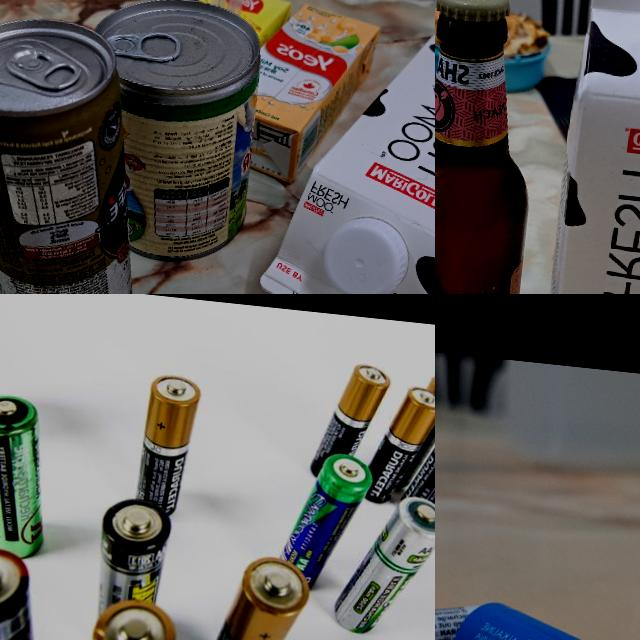aba de lata: (0, 46, 81, 98), (98, 20, 180, 67)
bateria: (331, 490, 435, 639), (277, 450, 373, 598), (90, 493, 172, 628), (309, 358, 393, 484), (198, 549, 313, 640), (359, 381, 435, 509), (0, 389, 55, 561), (137, 374, 200, 518), (0, 544, 51, 640), (79, 595, 179, 640), (402, 400, 435, 515)
caixinha: (251, 0, 435, 294), (533, 0, 640, 294), (235, 0, 381, 191), (191, 0, 289, 47)
garrafa de vidro: (435, 0, 550, 294)
lata: (74, 0, 265, 267), (0, 6, 160, 294)
tampa plástica: (320, 210, 409, 294)
